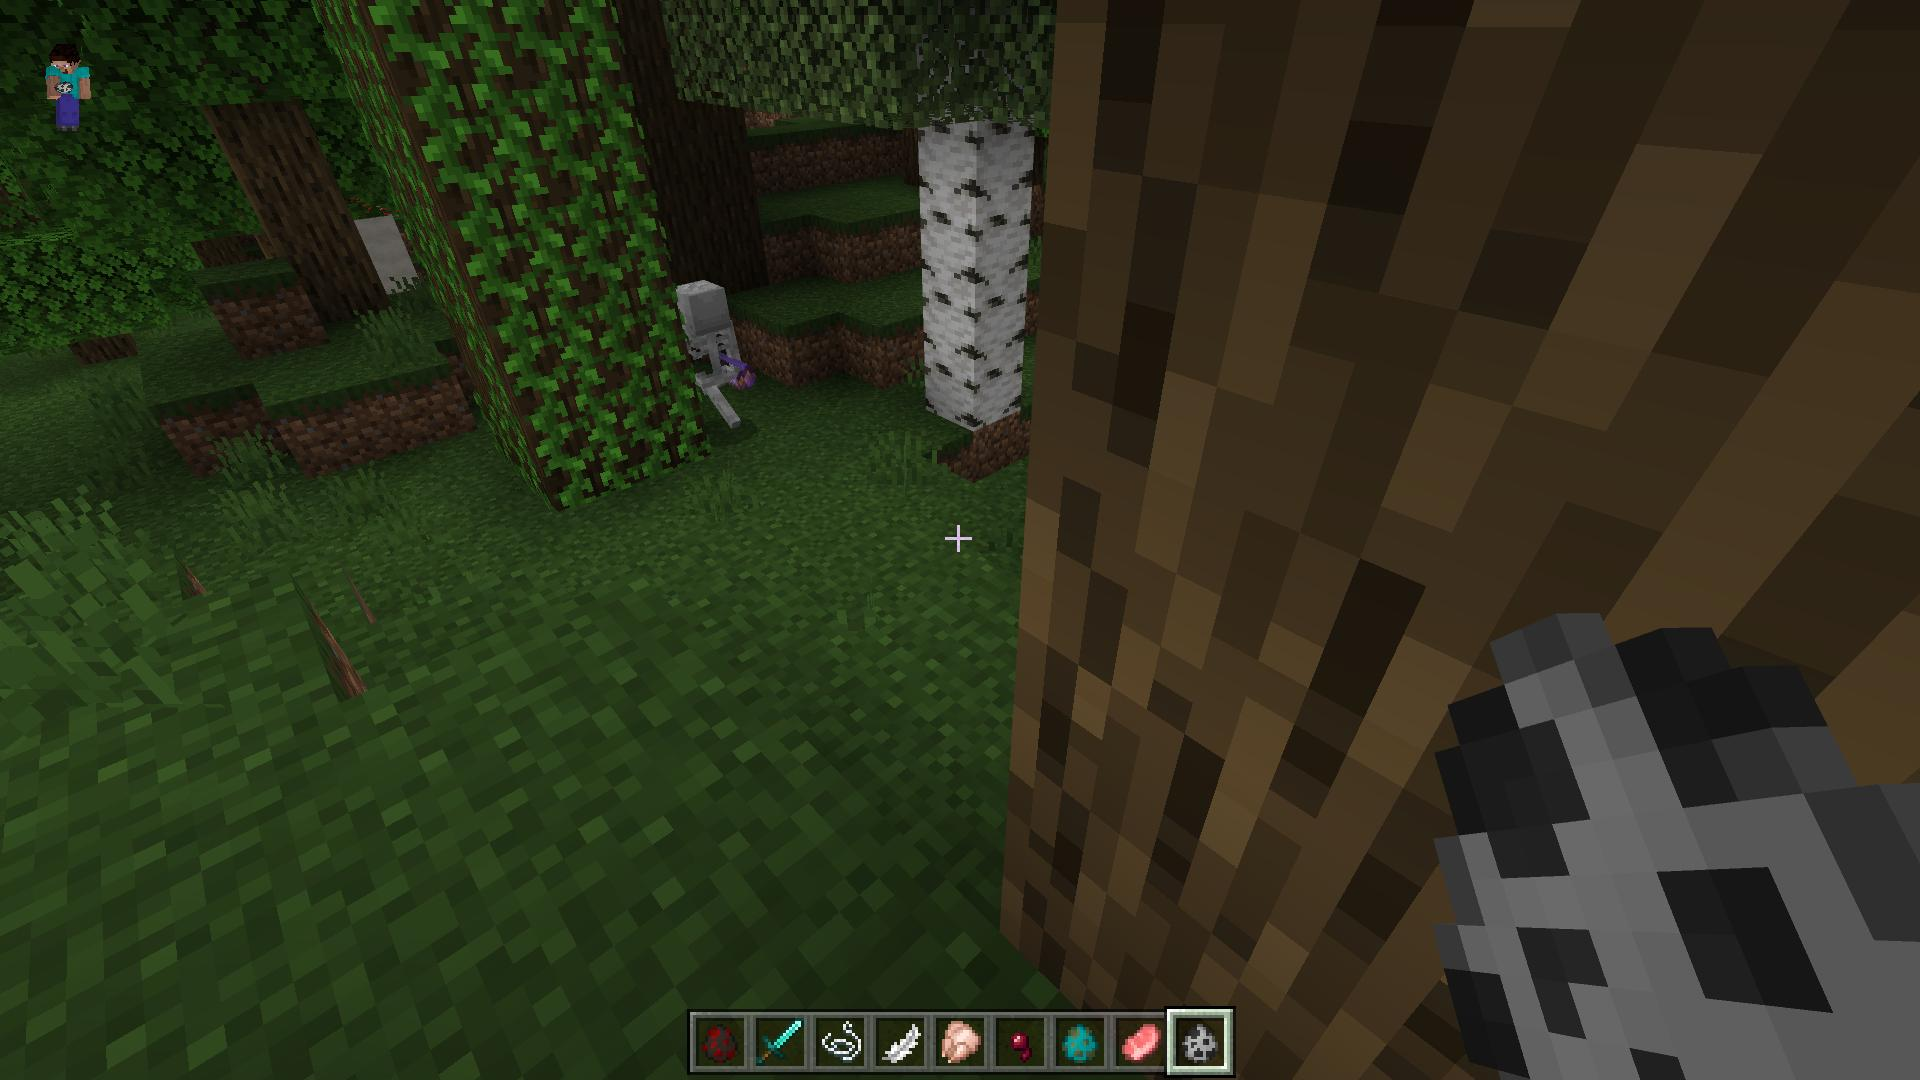skeleton: (674, 278, 757, 434)
